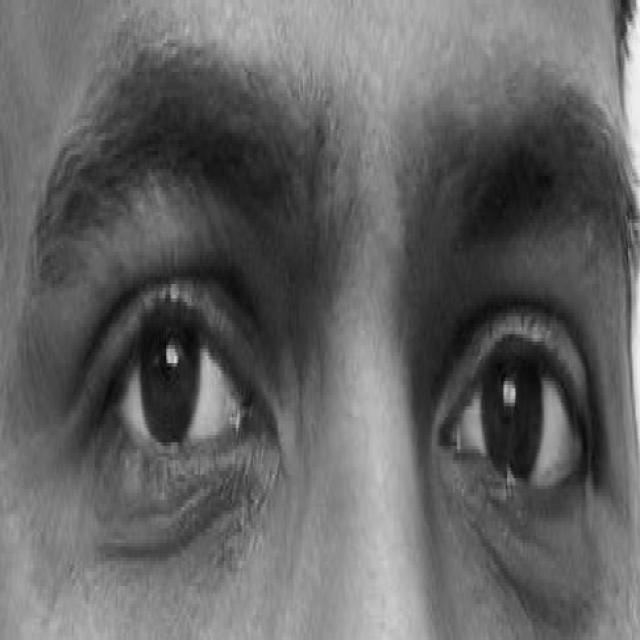real: (51, 77, 629, 622)
